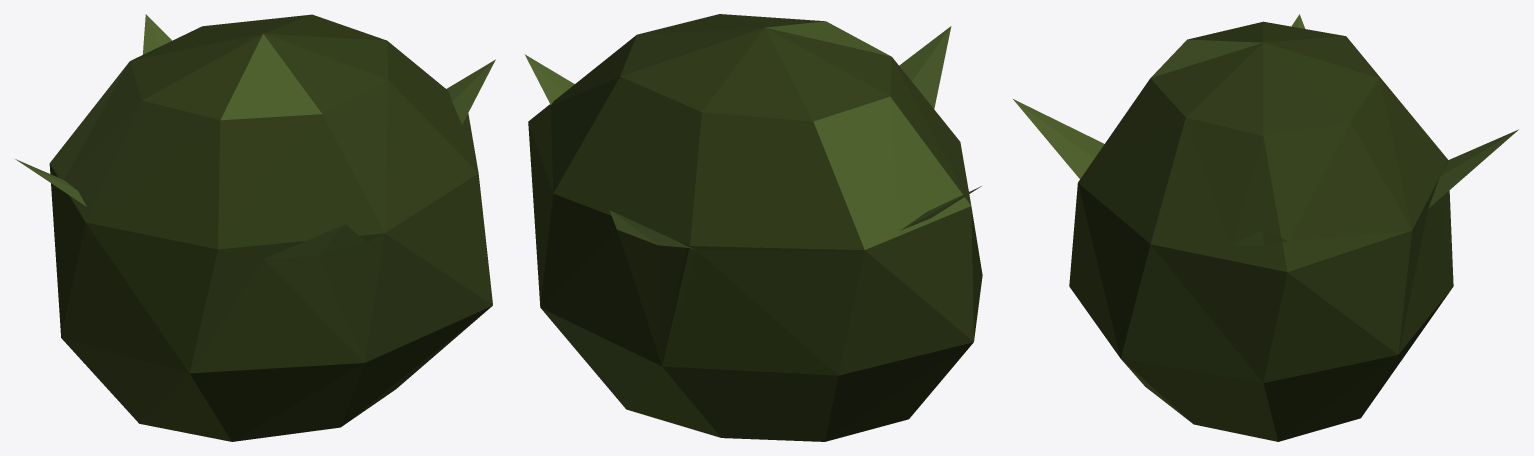
Rendered from Bush_Leafy_02.fbx.
3 views of the same model, side by side, from view 1: azimuth 30°, elevation 25°; view 2: azimuth 150°, elevation 25°; view 3: azimuth 270°, elevation 25° (orthographic). The views are drawn at different scales.
Visible parts, largest first — view 1: Bush_Leafy_02_Mesh; view 2: Bush_Leafy_02_Mesh; view 3: Bush_Leafy_02_Mesh.
Part boxes in pixels (box(x1,y1,x2,y2)): Bush_Leafy_02_Mesh: box(15, 14, 495, 441); Bush_Leafy_02_Mesh: box(524, 14, 982, 441); Bush_Leafy_02_Mesh: box(1013, 14, 1518, 441).
Bounding box in the file's own units: 1.29 × 1.04 × 1.28.
1 material, 1 textured.
